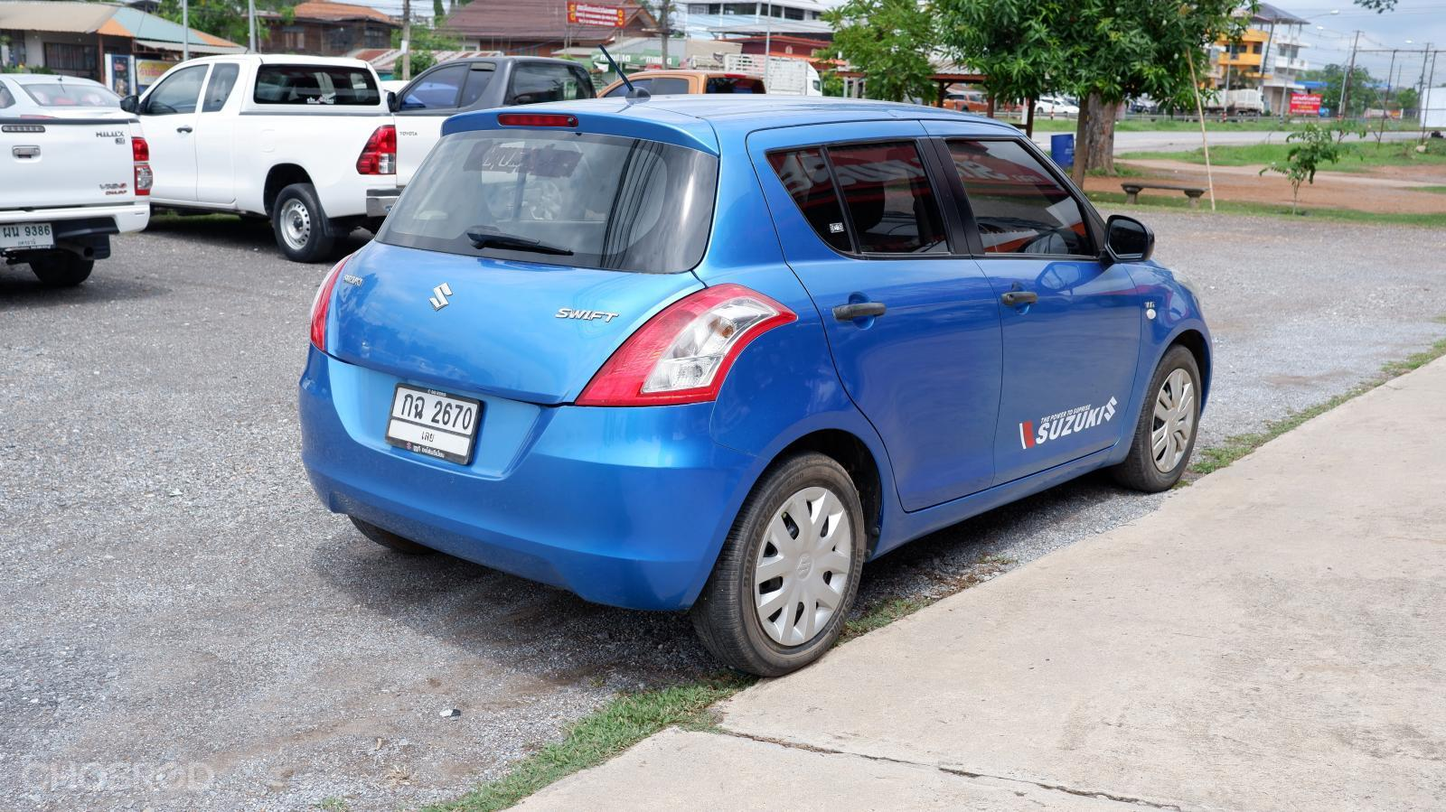license-plate: (385, 378, 484, 468), (0, 218, 60, 255)
